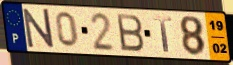0: (55, 11, 81, 50)
2: (89, 11, 116, 52)
8: (178, 14, 208, 57)
B: (115, 13, 146, 54)
N: (21, 8, 56, 50)
T: (152, 15, 174, 54)
